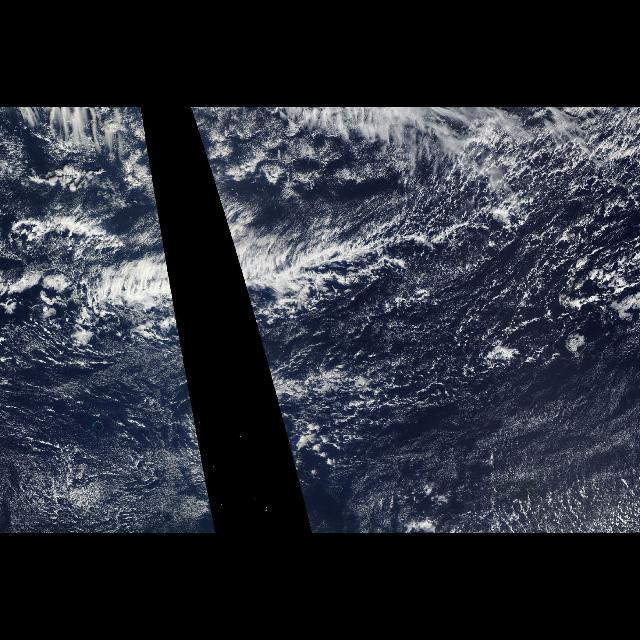Fish: (219, 199, 426, 351), (31, 199, 182, 351)
Gravel: (388, 115, 640, 402)
Sugar: (332, 299, 640, 533), (8, 336, 206, 530), (189, 110, 451, 214)
